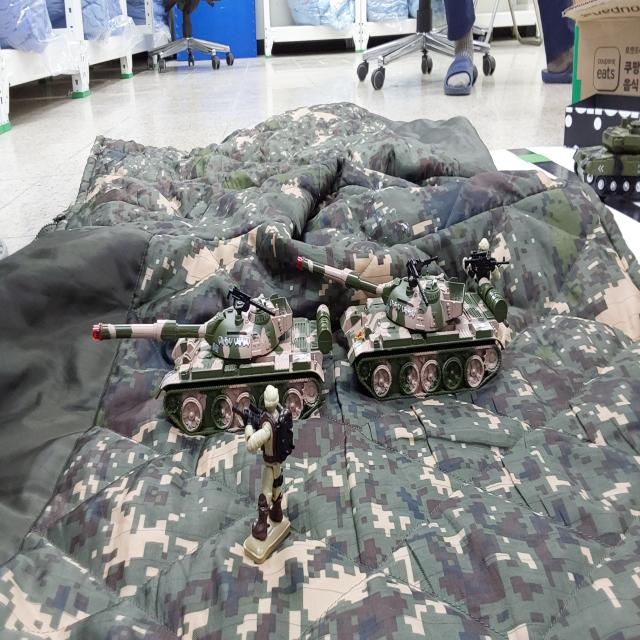ally: (233, 385, 294, 563), (462, 238, 511, 324)
